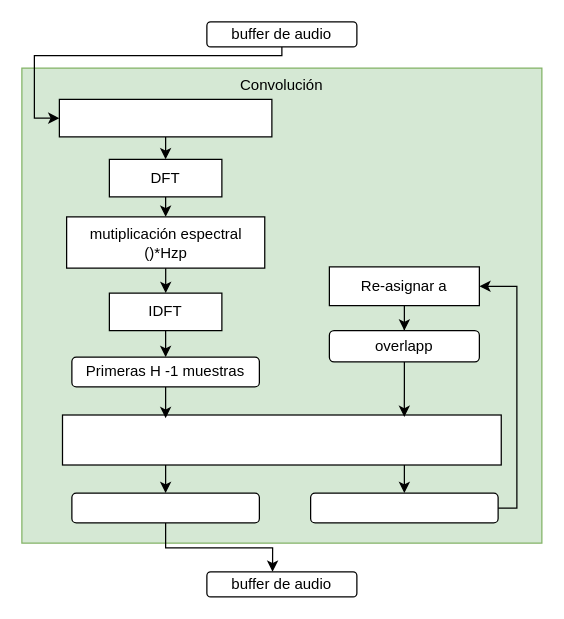
This 564x619 diagram has some shape labels left out. The shapes that lost their labels are listed below. From the top down, each one's centre as x and y in pixels, then its label:
pixel 165 117: zeropadding(H-1 muestras)
pixel 281 439: Suma
pixel 165 507: Primeras seg muestras
pixel 403 507: Ultimas H -1 muestras
